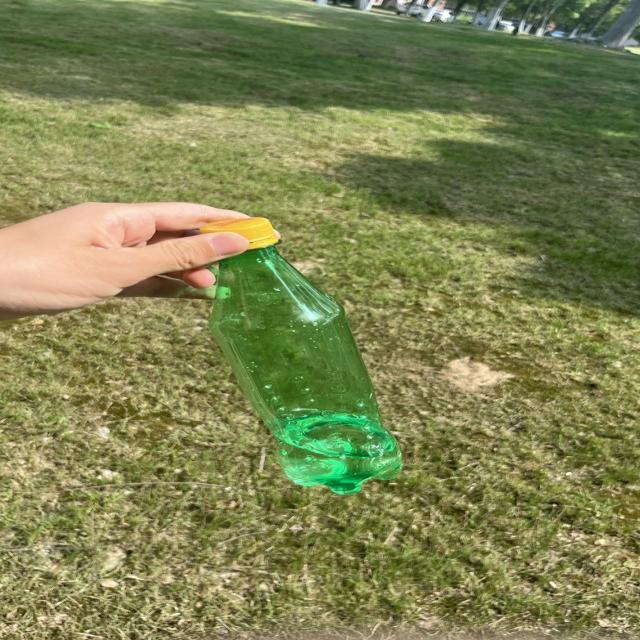low: (201, 218, 401, 493)
